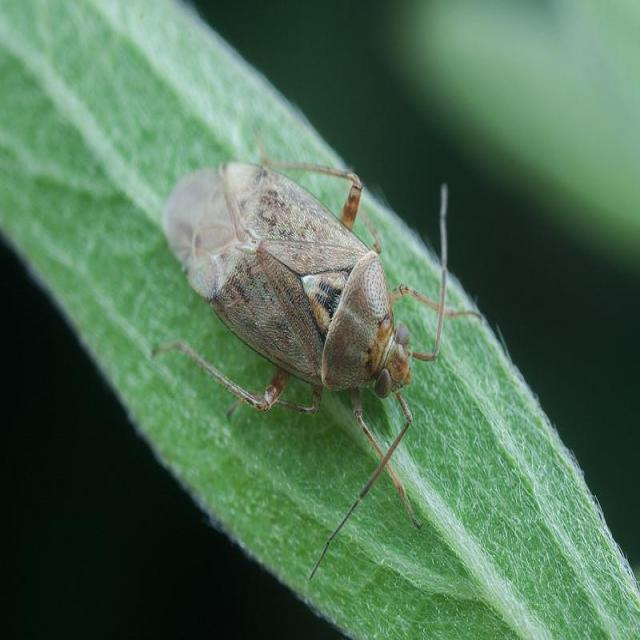Miridae-Adult-: (144, 142, 452, 520)
